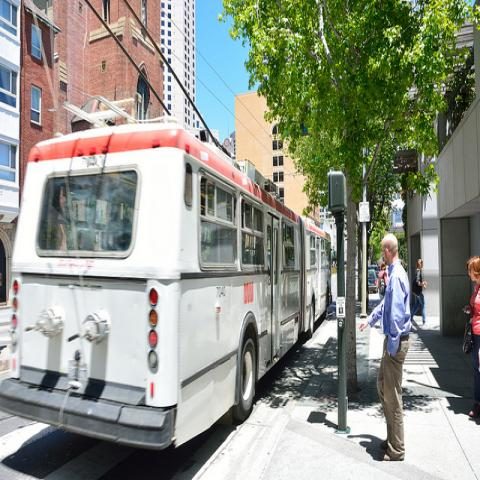bus: (0, 121, 302, 461)
